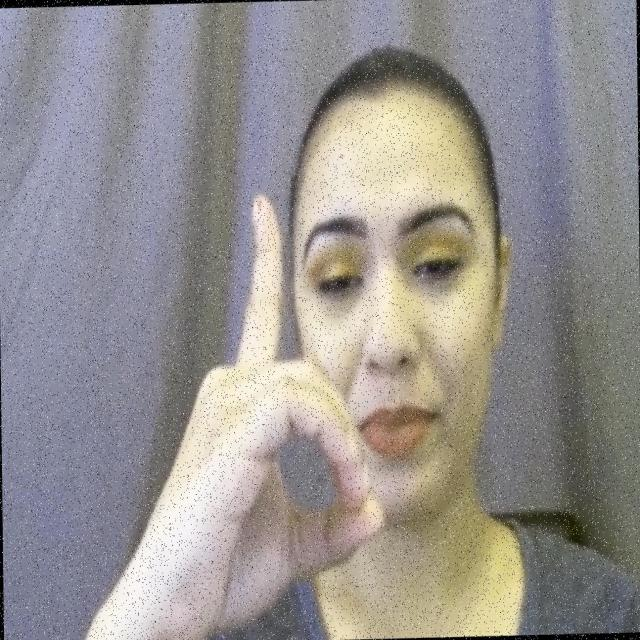D: (75, 186, 394, 637)
